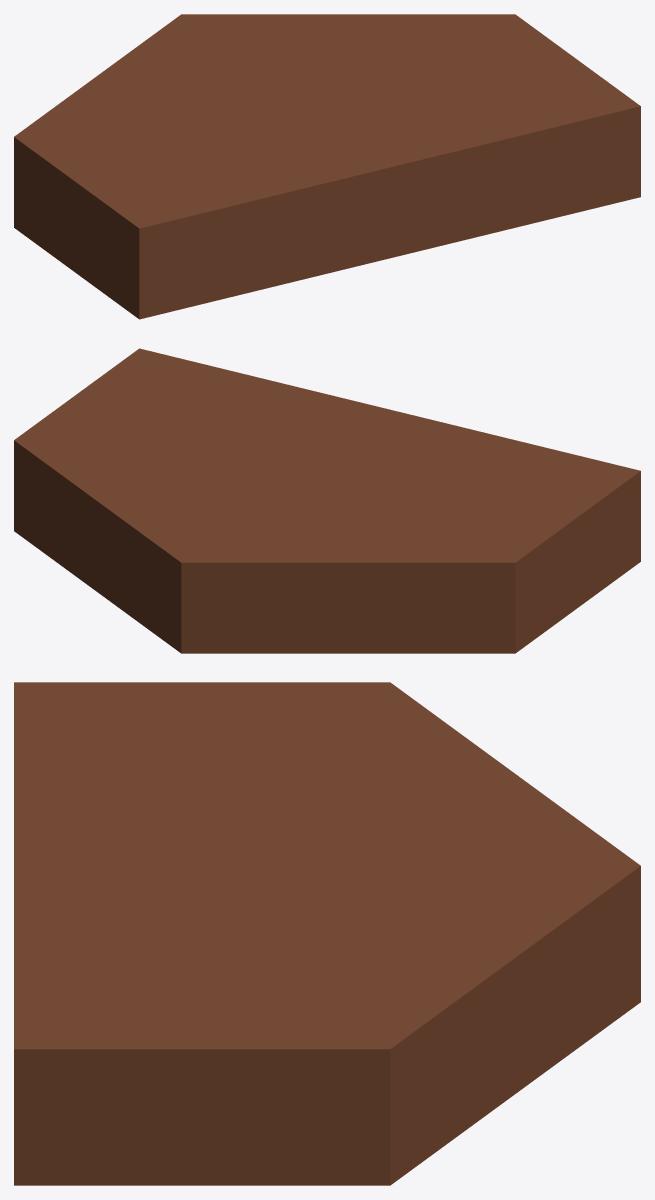
File: _wooden_wall.glb
3 renders of one model, top to bottom at view 1: azimuth 30°, elevation 25°; view 2: azimuth 150°, elevation 25°; view 3: azimuth 270°, elevation 25°, orthographic. The views are drawn at different scales.
Parts seen in each view (by area): view 1: WoodenWall2; view 2: WoodenWall2; view 3: WoodenWall2.
Part boxes in pixels (box(x1,y1,x2,y2)): WoodenWall2: box(14, 14, 640, 319); WoodenWall2: box(14, 348, 640, 653); WoodenWall2: box(14, 682, 640, 1185).
Size of the model in its own units: 1.73 by 0.3 by 1.25.
Materials: 1 (1 with a texture image).
